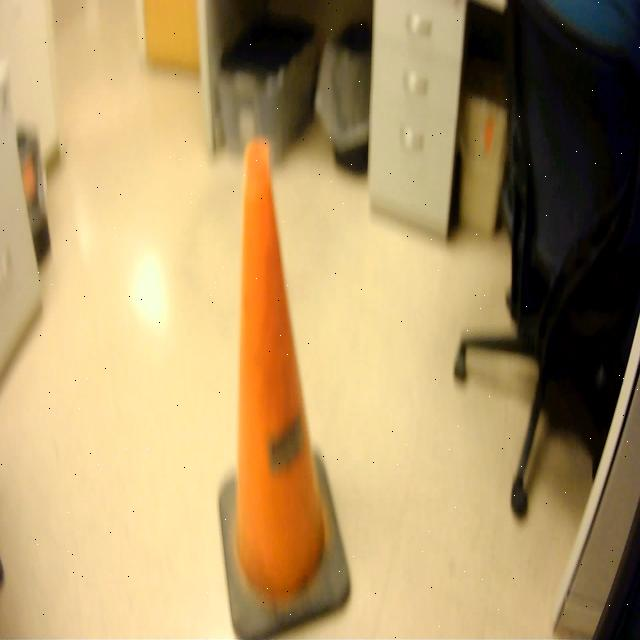traffic cone: (216, 128, 355, 640)
